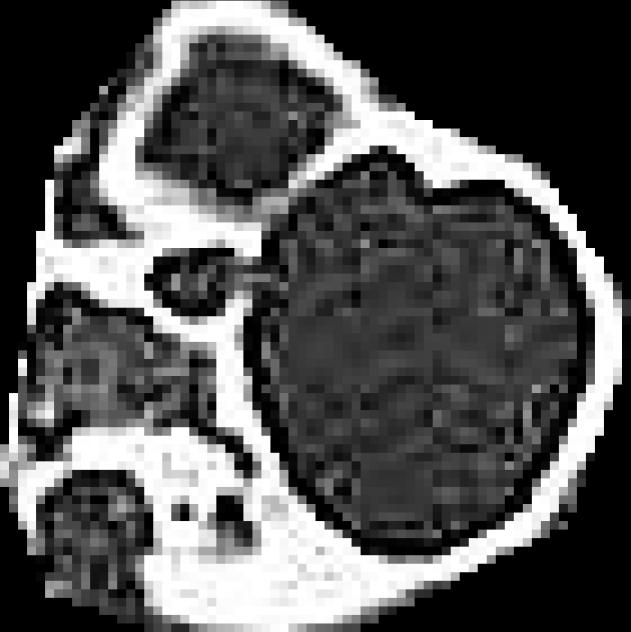tumor_moderate_chance: (0, 1, 631, 632)
